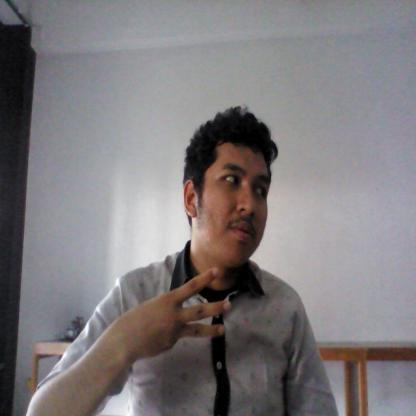E: (140, 264, 235, 354)
